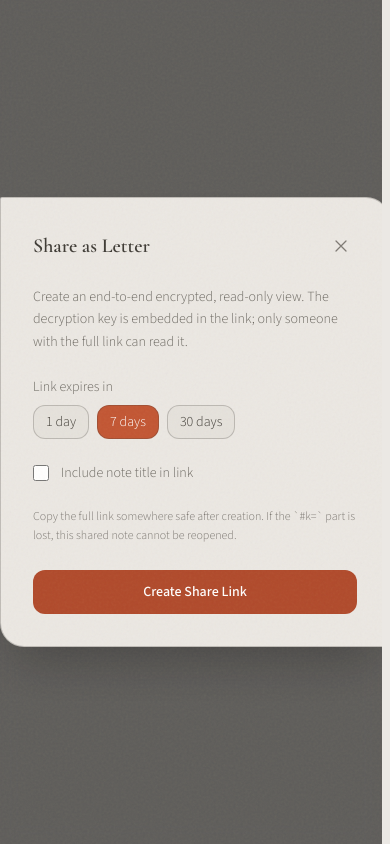
Scenario: ShareModal › creating share › shows encrypted share link after creation
Click the button "Create Share Link" at {"x": 195, "y": 592}, box x1=33 y1=570 x2=357 y2=614
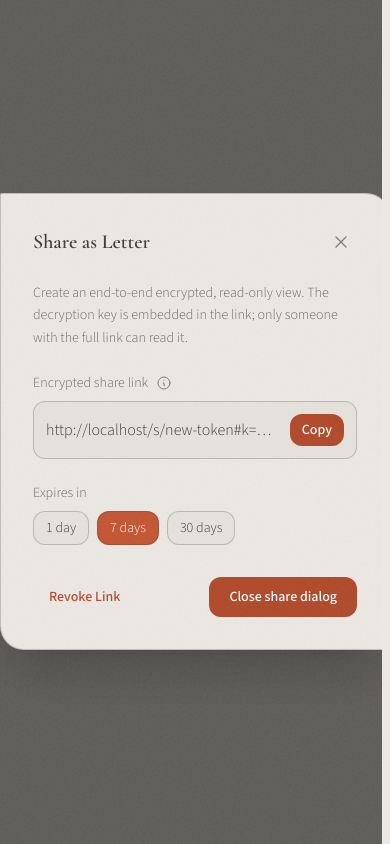
Check: the text "Encrypted share link" is shown, box x1=33 y1=374 x2=148 y2=394
Check: the field showing "/s/new-token" is shown, box x1=46 y1=419 x2=282 y2=442
